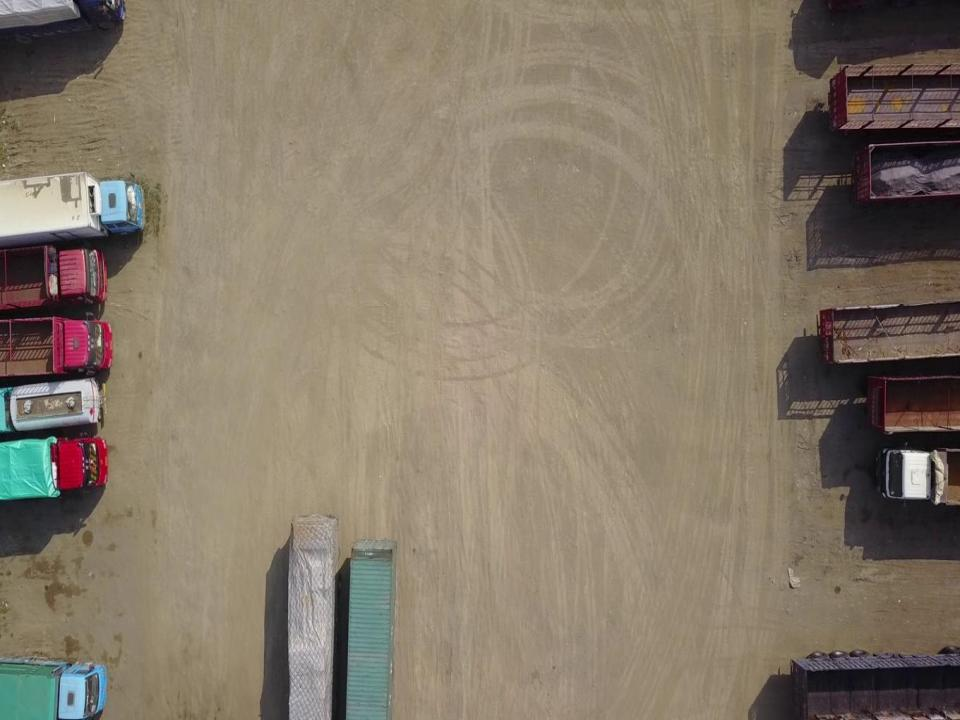truck: (788, 655, 960, 717), (284, 513, 333, 720), (0, 173, 144, 235), (817, 305, 960, 367), (350, 538, 398, 720), (833, 70, 960, 132), (3, 248, 107, 320), (5, 660, 109, 720), (857, 141, 960, 201), (0, 440, 110, 496), (1, 326, 116, 379), (873, 372, 960, 436), (4, 392, 109, 438), (881, 449, 960, 508), (0, 0, 131, 29)
